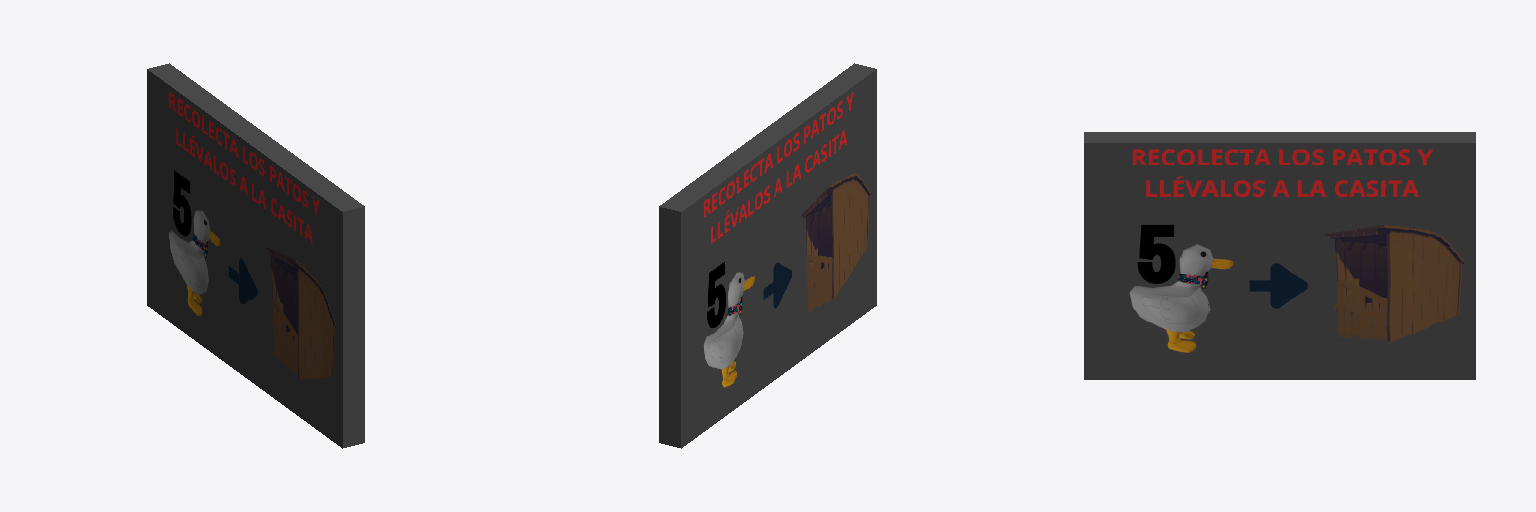
The picture shows the model from 3 angles: view 1: azimuth 30°, elevation 25°; view 2: azimuth 150°, elevation 25°; view 3: azimuth 270°, elevation 25°; orthographic projection.
Parts seen in each view (by area): view 1: pCube1; view 2: pCube1; view 3: pCube1.
Part boxes in pixels (left/top/right/bottom): pCube1: left=147, top=63, right=364, bottom=448; pCube1: left=659, top=63, right=876, bottom=448; pCube1: left=1084, top=132, right=1475, bottom=379.
Bounding box in the file's own units: 1 × 10 × 15.
1 materials, 1 textured.